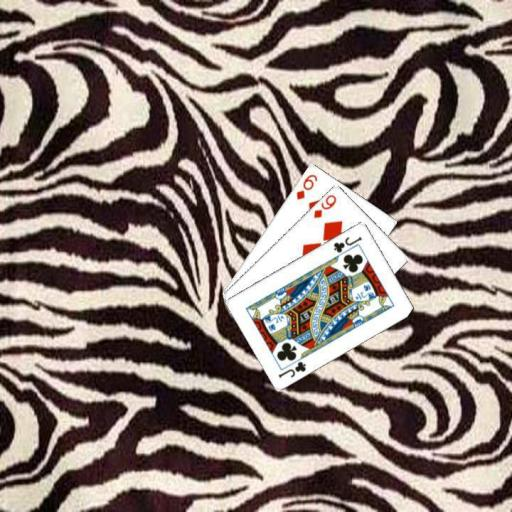card-corner: (293, 171, 319, 201), (311, 191, 338, 219), (330, 233, 363, 254), (275, 358, 308, 379)
